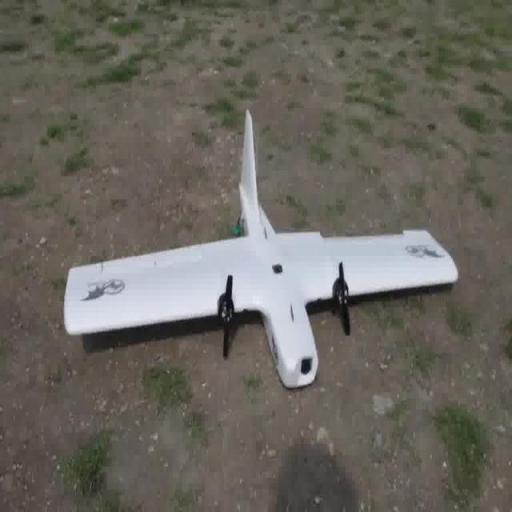uav: (62, 104, 462, 391)
